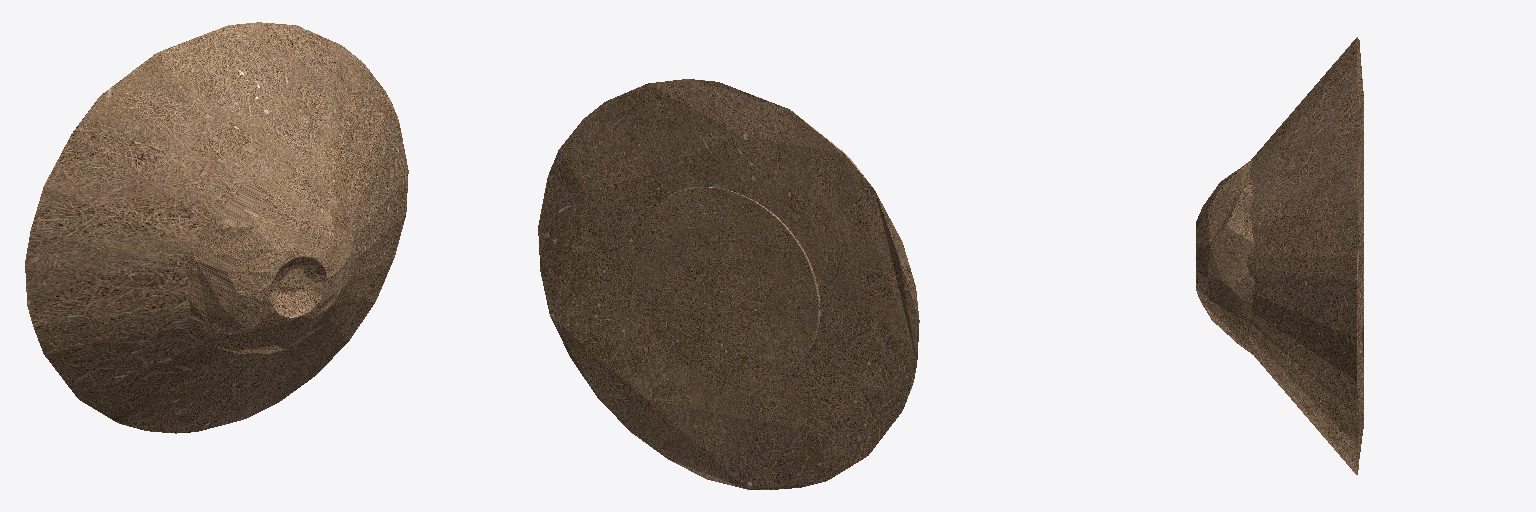
3 renders of one model, left to right at view 1: azimuth 30°, elevation 25°; view 2: azimuth 150°, elevation 25°; view 3: azimuth 270°, elevation 25°, orthographic.
Visible parts, largest first — view 1: Object.1, Object.2; view 2: Object.1, Object.2; view 3: Object.1, Object.2.
Boxes of the visible parts, <box> form: Object.1: <box>25,22,408,433</box>; Object.2: <box>186,173,355,353</box>; Object.1: <box>538,79,919,489</box>; Object.2: <box>633,187,820,386</box>; Object.1: <box>1247,37,1363,474</box>; Object.2: <box>1196,158,1363,357</box>.
Bounding box in the file's own units: 76.31 × 76.14 × 29.12.
Materials: 1 (1 with a texture image).